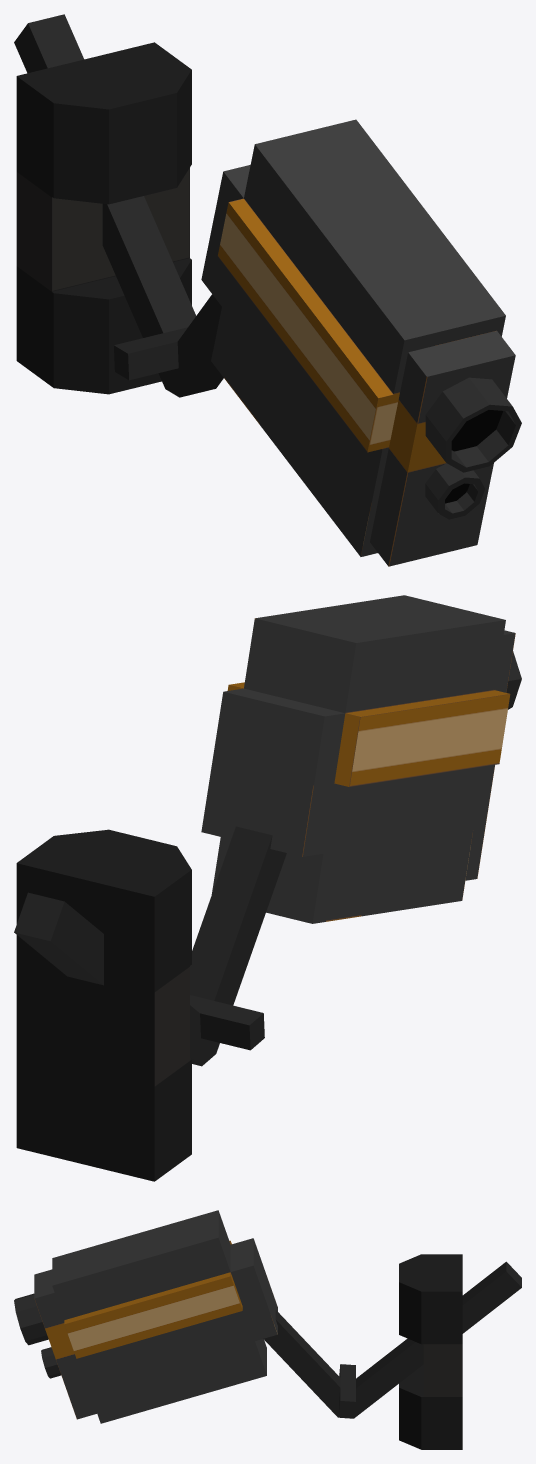
The model's file is cameraCCTV.obj.
3 views of the same model, one above another, from view 1: azimuth 30°, elevation 25°; view 2: azimuth 150°, elevation 25°; view 3: azimuth 270°, elevation 25° (orthographic). The views are drawn at different scales.
Visible parts, largest first — view 1: Cube, Cube.002, Cube.001, Cylinder, Cylinder.001; view 2: Cube, Cube.002, Cube.001; view 3: Cube, Cube.002, Cube.001, Cylinder, Cylinder.001.
Part boxes in pixels (left/top/right/bottom): Cube: left=201, top=119, right=515, bottom=566; Cube.002: left=16, top=42, right=191, bottom=394; Cube.001: left=14, top=14, right=223, bottom=397; Cylinder: left=425, top=377, right=521, bottom=472; Cylinder.001: left=425, top=463, right=485, bottom=519; Cube: left=201, top=595, right=515, bottom=923; Cube.002: left=16, top=829, right=191, bottom=1181; Cube.001: left=14, top=826, right=286, bottom=1066; Cube: left=34, top=1210, right=277, bottom=1423; Cube.002: left=399, top=1254, right=462, bottom=1449; Cube.001: left=263, top=1261, right=521, bottom=1418; Cylinder: left=14, top=1293, right=48, bottom=1345; Cylinder.001: left=41, top=1347, right=60, bottom=1378.
Bounding box in the file's own units: 1.01 × 2.62 × 5.82.
5 materials, 5 textured.
